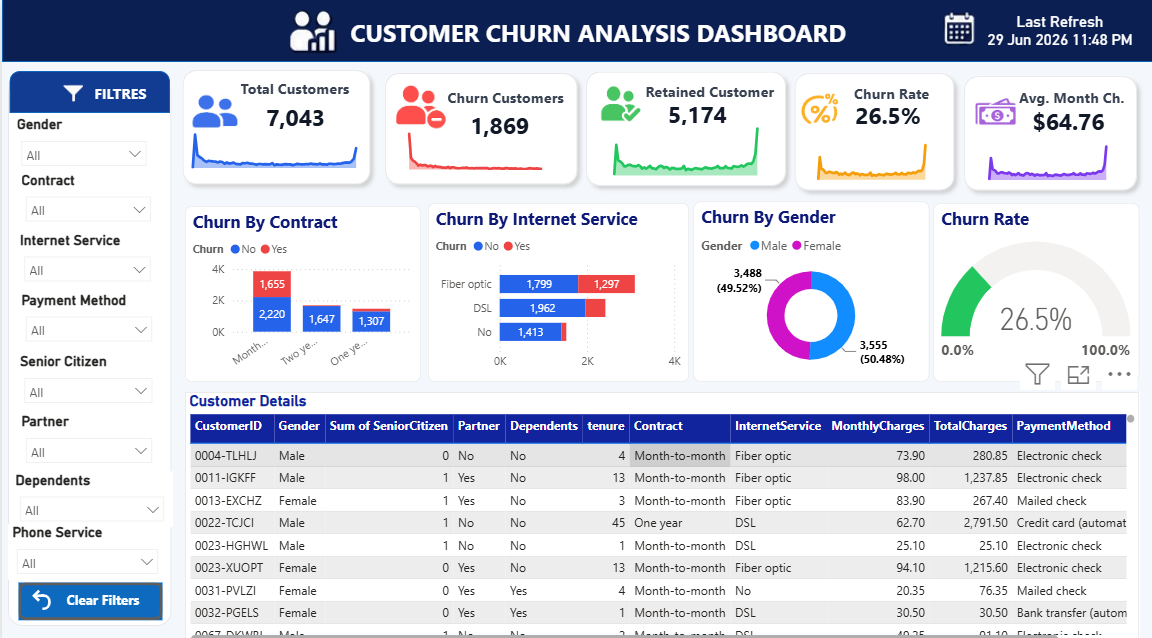

What the dashboard file says about the page in this screenshot:
{"tool":"powerbi","page":{"name":"Customer Churn Analysis Dashboard","canvas":[1280,720],"ordinal":0},"visuals":[{"type":"group","id":"g1","title":"Group 1","box":[0,0,1280,70],"z":0},{"type":"shape","box":[0,0,1280,70],"z":0,"group":"g1"},{"type":"shape","box":[192,70,226.6,145],"z":0,"group":"g3"},{"type":"shape","box":[640.3,71.7,240,145],"z":0,"group":"g5"},{"type":"shape","box":[416,73.3,231.7,141.7],"z":0,"group":"g4"},{"type":"shape","box":[871,73.3,195.4,148.3],"z":0,"group":"g6"},{"type":"shape","box":[1060,76.7,210,145],"z":0,"group":"g7"},{"type":"shape","box":[6.1,88.3,181.7,608.3],"z":0,"group":"g2"},{"type":"card","fields":{"Values":["AllMeasures.Last Refresh"]},"box":[1080,5,190,60],"z":1000},{"type":"textbox","box":[373.3,6.7,578.3,60],"z":1000,"group":"g1"},{"type":"shape","box":[7.6,80,178.3,46.7],"z":1000,"group":"g2"},{"type":"image","box":[434.3,86.6,60,68.3],"z":1000,"group":"g4"},{"type":"image","box":[658.3,87.5,53.9,63.3],"z":1000,"group":"g5"},{"type":"image","box":[885.6,89.5,43.9,64.8],"z":1000,"group":"g6"},{"type":"image","box":[1075.4,93.5,56.3,68.4],"z":1000,"group":"g7"},{"type":"image","box":[212,98.3,53.3,58.3],"z":1000,"group":"g3"},{"type":"image","box":[1038.3,13.3,48.3,40],"z":2000},{"type":"textbox","box":[259.9,83.3,136.7,36.7],"z":2000,"group":"g3"},{"type":"textbox","box":[710.5,86.7,164.9,36.7],"z":2000,"group":"g5"},{"type":"textbox","box":[940.3,88.6,133.9,37.5],"z":2000,"group":"g6"},{"type":"textbox","box":[1125.7,93,144.3,37.5],"z":2000,"group":"g7"},{"type":"textbox","box":[489.3,93.3,146.7,35],"z":2000,"group":"g4"},{"type":"image","box":[316.7,10,56.7,51.7],"z":3000},{"type":"card","fields":{"Values":["AllMeasures.Total Customers"]},"box":[268.2,111.7,115,40],"z":3000,"group":"g3"},{"type":"card","fields":{"Values":["AllMeasures.Retention Customers"]},"box":[721.9,113.4,101.2,31.7],"z":3000,"group":"g5"},{"type":"card","fields":{"Values":["AllMeasures.Churn Rate"]},"box":[936.7,113.7,94.5,34.1],"z":3000,"group":"g6"},{"type":"card","fields":{"Values":["AllMeasures.Average Monthly Charge"]},"box":[1130,117.4,109.3,39.1],"z":3000,"group":"g7"},{"type":"card","fields":{"Values":["AllMeasures.Chrun Customers"]},"box":[501,121.6,101.7,38.3],"z":3000,"group":"g4"},{"type":"group","id":"g2","title":"Group 3","box":[6.1,80,181.7,616.7],"z":4000},{"type":"stackedAreaChart","fields":{"Category":["CustomerChurnData.tenure"],"Y":["AllMeasures.Retention Customers"]},"box":[665.9,123.9,206.7,78.3],"z":4000,"group":"g5"},{"type":"stackedAreaChart","fields":{"Category":["CustomerChurnData.tenure"],"Y":["AllMeasures.Total Customers"]},"box":[197,125,231.7,68.3],"z":4000,"group":"g3"},{"type":"stackedAreaChart","fields":{"Category":["CustomerChurnData.tenure"],"Y":["AllMeasures.Chrun Customers"]},"box":[434.3,133.3,195,61.7],"z":4000,"group":"g4"},{"type":"stackedAreaChart","fields":{"Category":["CustomerChurnData.tenure"],"Y":["AllMeasures.Retention Customers"]},"box":[891,142.6,162.3,63.1],"z":4000,"group":"g6"},{"type":"stackedAreaChart","fields":{"Category":["CustomerChurnData.tenure"],"Y":["AllMeasures.Retention Customers"]},"box":[1081.5,144.5,174.4,61.7],"z":4000,"group":"g7"},{"type":"textbox","box":[93.3,87.8,76.7,33.3],"z":5000},{"type":"image","box":[60.4,95.4,38.2,19.1],"z":6000},{"type":"slicer","title":"Gender","fields":{"Values":["CustomerChurnData.Gender"]},"box":[11.7,130,158.3,61.7],"z":7000},{"type":"actionButton","box":[17.8,648.3,160,41.7],"z":7008,"group":"g2"},{"type":"slicer","title":"Contract","fields":{"Values":["CustomerChurnData.Contract"]},"box":[16.7,191.7,158.3,61.7],"z":8000},{"type":"slicer","title":"Internet Service","fields":{"Values":["CustomerChurnData.InternetService"]},"box":[15,258.3,160,61.7],"z":9000},{"type":"slicer","title":"Payment Method","fields":{"Values":["CustomerChurnData.PaymentMethod"]},"box":[16.7,325,160,61.7],"z":10000},{"type":"slicer","title":"Senior Citizen","fields":{"Values":["CustomerChurnData.SeniorCitizen"]},"box":[15,393.3,161.7,61.7],"z":11000},{"type":"slicer","title":"Partner","fields":{"Values":["CustomerChurnData.Partner"]},"box":[16.7,460,160,61.7],"z":12000},{"type":"slicer","title":"Dependents","fields":{"Values":["CustomerChurnData.Dependents"]},"box":[10,525,180,61.7],"z":13000},{"type":"slicer","title":"Phone Service","fields":{"Values":["CustomerChurnData.PhoneService"]},"box":[6.7,583.3,176.7,61.7],"z":14000},{"type":"textbox","box":[66.7,651.7,103.3,33.3],"z":15000},{"type":"actionButton","box":[28.3,651.7,38.3,31.7],"z":16000},{"type":"group","id":"g3","title":"Group 2","box":[192,70,236.7,145],"z":17000},{"type":"group","id":"g4","title":"Group 2","box":[416,73.3,231.7,141.7],"z":18000},{"type":"group","id":"g5","title":"Group 2","box":[640.3,71.7,240,145],"z":19000},{"type":"group","id":"g6","title":"Group 2","box":[871,73.3,203.3,148.3],"z":20000},{"type":"columnChart","title":"Churn By Contract","fields":{"Y":["AllMeasures.Total Customers"],"Series":["CustomerChurnData.Churn"],"Category":["CustomerChurnData.Contract"]},"box":[203.3,230,261.7,195],"z":21000},{"type":"group","id":"g7","title":"Group 2","box":[1060,76.7,210,145],"z":22000},{"type":"barChart","title":"Churn By Internet Service","fields":{"Category":["CustomerChurnData.InternetService"],"Y":["AllMeasures.Total Customers"],"Series":["CustomerChurnData.Churn"]},"box":[473.3,226.7,290,198.3],"z":23000},{"type":"donutChart","title":"Churn By Gender","fields":{"Y":["AllMeasures.Total Customers"],"Category":["CustomerChurnData.Gender"]},"box":[768.3,225,261.7,200],"z":24000},{"type":"gauge","title":"Churn Rate","fields":{"Y":["AllMeasures.Churn Rate"]},"box":[1035,226.7,228.3,198.3],"z":25000},{"type":"tableEx","title":"Customer Details","fields":{"Values":["CustomerChurnData.CustomerID","CustomerChurnData.Gender","Sum(CustomerChurnData.SeniorCitizen)","CustomerChurnData.Partner","CustomerChurnData.Dependents","CustomerChurnData.tenure","CustomerChurnData.Contract","CustomerChurnData.InternetService","CustomerChurnData.MonthlyCharges","CustomerChurnData.TotalCharges","CustomerChurnData.PaymentMethod","CustomerChurnData.Churn"]},"box":[203.3,436.7,1060,283.3],"z":26000}]}

Visuals, with their boxes in screenshot pixels (x1, y1, x2, y2), scaled from the page's 1280x720 canvas onto the 1152x638 screenshot:
"Group 1" group: 0, 0, 1151, 62
shape: 0, 0, 1151, 62
shape: 173, 62, 377, 191
shape: 576, 64, 792, 192
shape: 374, 65, 583, 191
shape: 784, 65, 960, 196
shape: 954, 68, 1143, 196
shape: 5, 78, 169, 617
card - AllMeasures.Last Refresh: 972, 4, 1143, 58
textbox: 336, 6, 856, 59
shape: 7, 71, 167, 112
image: 391, 77, 445, 137
image: 592, 78, 641, 134
image: 797, 79, 837, 137
image: 968, 83, 1019, 143
image: 191, 87, 239, 139
image: 934, 12, 978, 47
textbox: 234, 74, 357, 106
textbox: 639, 77, 788, 109
textbox: 846, 79, 967, 112
textbox: 1013, 82, 1143, 116
textbox: 440, 83, 572, 114
image: 285, 9, 336, 55
card - AllMeasures.Total Customers: 241, 99, 345, 134
card - AllMeasures.Retention Customers: 650, 100, 741, 129
card - AllMeasures.Churn Rate: 843, 101, 928, 131
card - AllMeasures.Average Monthly Charge: 1017, 104, 1115, 139
card - AllMeasures.Chrun Customers: 451, 108, 542, 142
"Group 3" group: 5, 71, 169, 617
stackedAreaChart - CustomerChurnData.tenure x AllMeasures.Retention Customers: 599, 110, 785, 179
stackedAreaChart - CustomerChurnData.tenure x AllMeasures.Total Customers: 177, 111, 386, 171
stackedAreaChart - CustomerChurnData.tenure x AllMeasures.Chrun Customers: 391, 118, 566, 173
stackedAreaChart - CustomerChurnData.tenure x AllMeasures.Retention Customers: 802, 126, 948, 182
stackedAreaChart - CustomerChurnData.tenure x AllMeasures.Retention Customers: 973, 128, 1130, 183
textbox: 84, 78, 153, 107
image: 54, 85, 89, 101
"Gender" slicer: 11, 115, 153, 170
actionButton: 16, 574, 160, 611
"Contract" slicer: 15, 170, 158, 225
"Internet Service" slicer: 14, 229, 158, 284
"Payment Method" slicer: 15, 288, 159, 343
"Senior Citizen" slicer: 14, 349, 159, 403
"Partner" slicer: 15, 408, 159, 462
"Dependents" slicer: 9, 465, 171, 520
"Phone Service" slicer: 6, 517, 165, 572
textbox: 60, 577, 153, 607
actionButton: 25, 577, 60, 606
"Group 2" group: 173, 62, 386, 191
"Group 2" group: 374, 65, 583, 191
"Group 2" group: 576, 64, 792, 192
"Group 2" group: 784, 65, 967, 196
"Churn By Contract" columnChart: 183, 204, 418, 377
"Group 2" group: 954, 68, 1143, 196
"Churn By Internet Service" barChart: 426, 201, 687, 377
"Churn By Gender" donutChart: 691, 199, 927, 377
"Churn Rate" gauge: 932, 201, 1137, 377
"Customer Details" tableEx: 183, 387, 1137, 637
